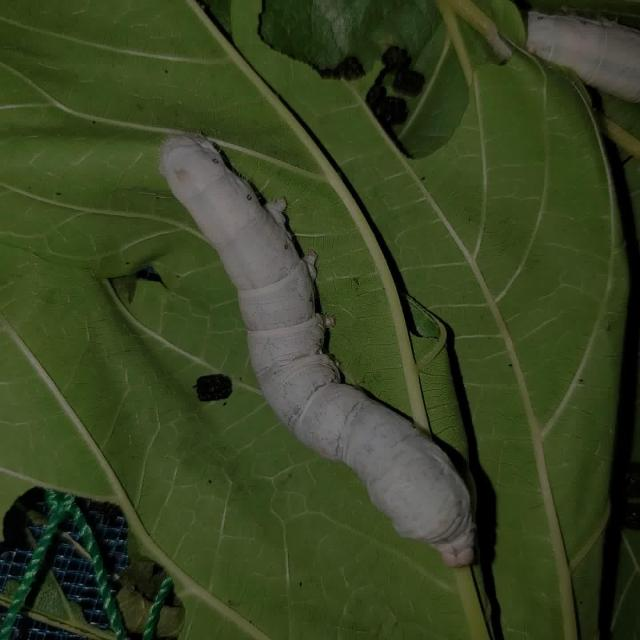Healthy: (136, 109, 506, 582)
